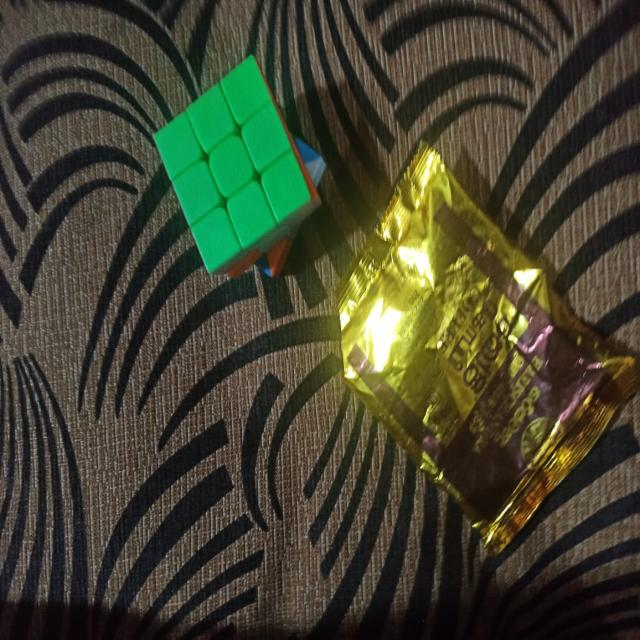Harischandra Coffee: (280, 133, 588, 579)
